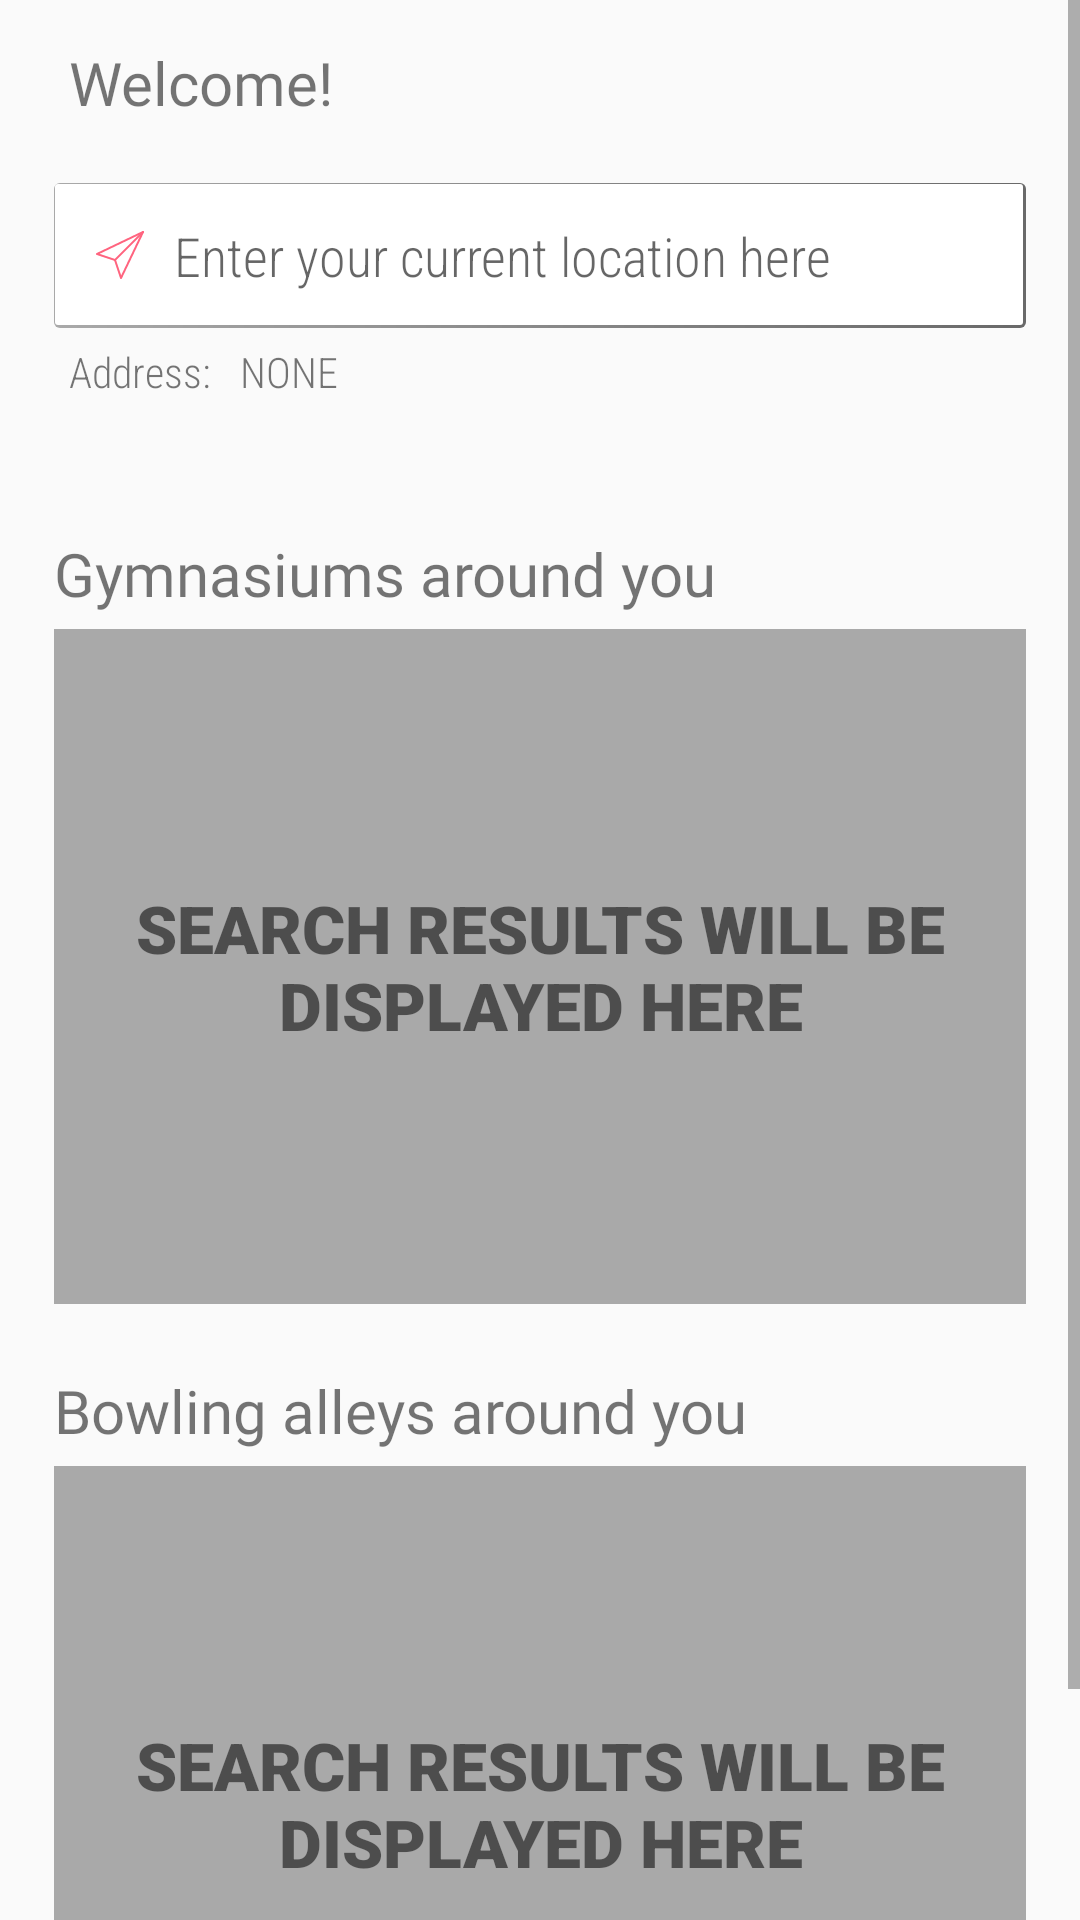

Where icons sit on this 1080×1920 app screen, as (x1, y1, x2, y2):
navigation: (96, 231, 144, 279)
